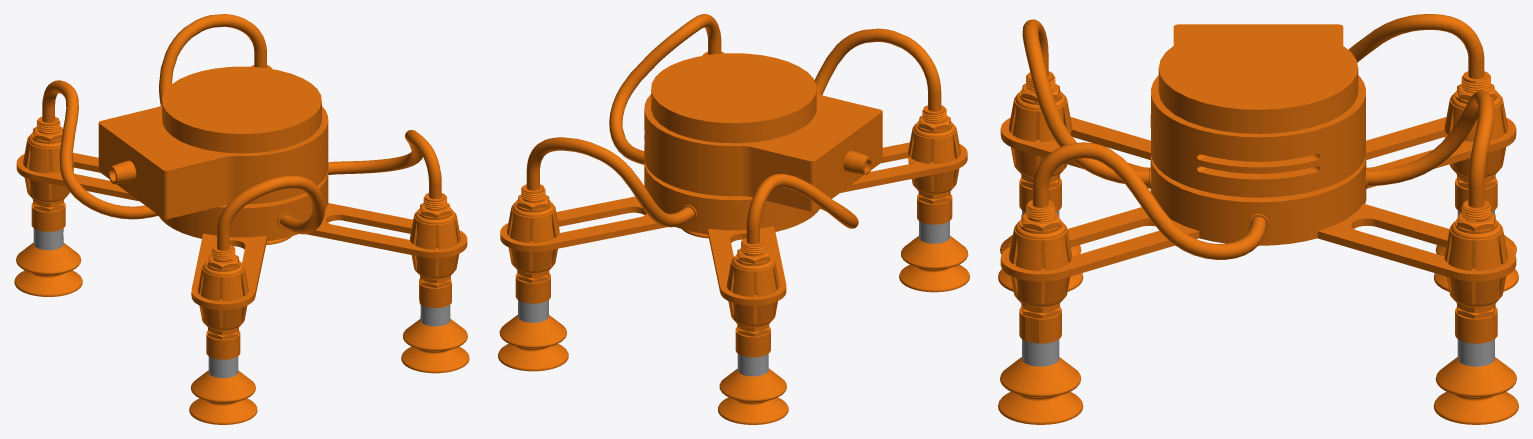
Rendered from Vacuum gripper v1.fbx.
3 renders of one model, left to right at view 1: azimuth 30°, elevation 25°; view 2: azimuth 150°, elevation 25°; view 3: azimuth 270°, elevation 25°, orthographic. The views are drawn at different scales.
Parts seen in each view (by area): view 1: Body1; view 2: Body1; view 3: Body1.
Part boxes in pixels (x1,y1,x2,y2): Body1: (14,14,469,424); Body1: (498,14,969,424); Body1: (998,14,1518,424).
Bounding box in the file's own units: 158 × 115 × 196.
